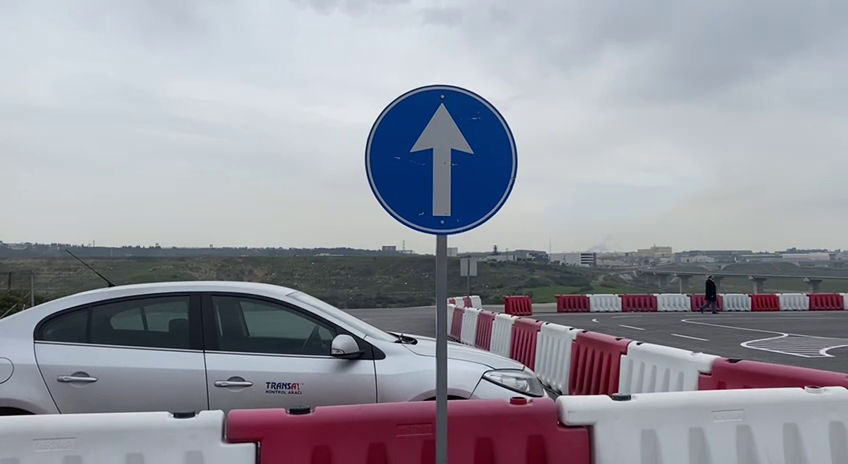forward: (360, 80, 520, 239)
